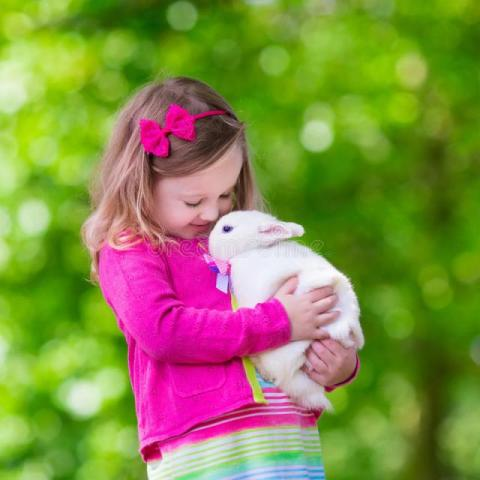small_animal: (206, 208, 366, 414)
